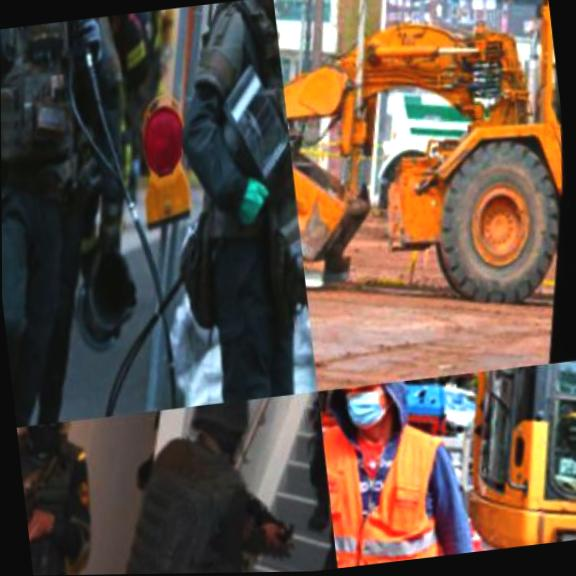safety_vest: (164, 15, 298, 231), (84, 429, 271, 575), (323, 415, 458, 568), (0, 17, 110, 196), (17, 426, 109, 576)
